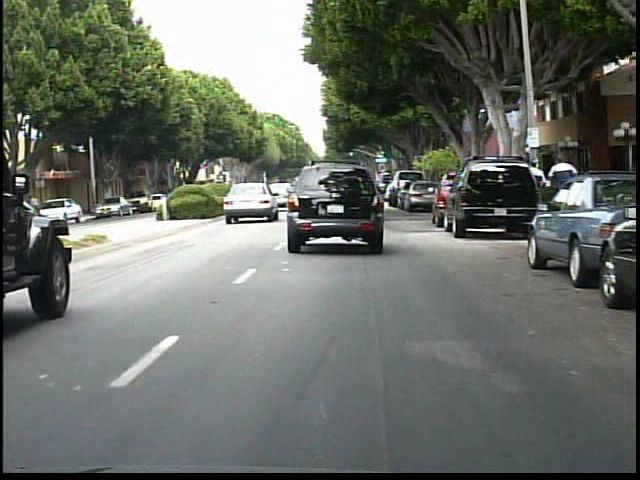person: (546, 148, 581, 221), (521, 157, 547, 219), (27, 192, 48, 230)
